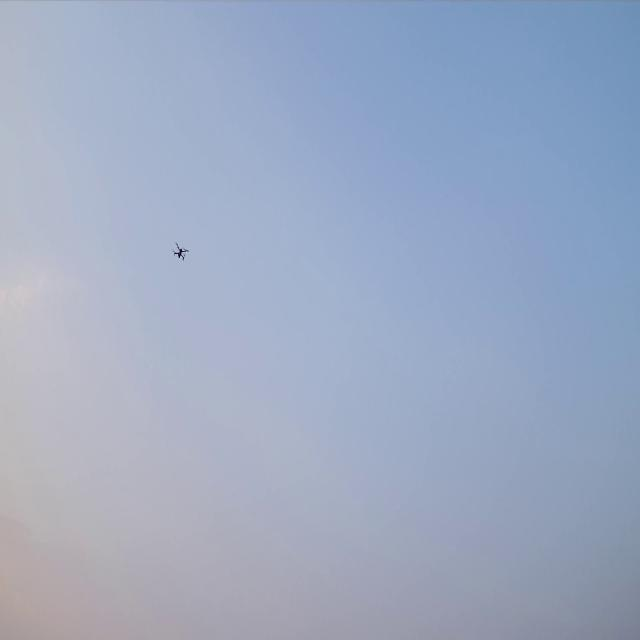UAV: (172, 240, 190, 262)
